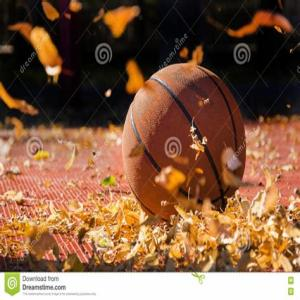Basket: (122, 63, 247, 226)
